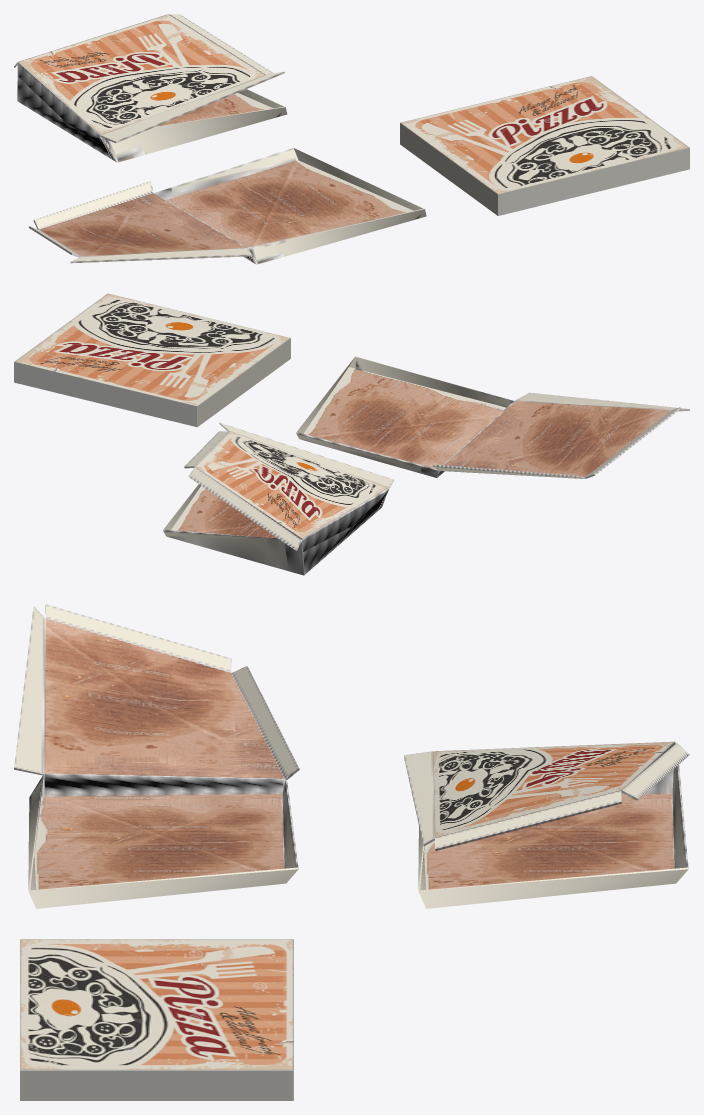
File: pizzaBoxes.fbx
3 views of the same model, one above another, from view 1: azimuth 30°, elevation 25°; view 2: azimuth 150°, elevation 25°; view 3: azimuth 270°, elevation 25° (orthographic). The views are drawn at different scales.
Visible parts, largest first — view 1: pizzaBox01, pizzaBox02, pizzaBox03; view 2: pizzaBox01, pizzaBox03, pizzaBox02; view 3: pizzaBox01, pizzaBox03, pizzaBox02.
Boxes of the visible parts, left/top/right/bottom form: pizzaBox01: left=28, top=148, right=426, bottom=264; pizzaBox02: left=14, top=14, right=287, bottom=162; pizzaBox03: left=400, top=76, right=689, bottom=215; pizzaBox01: left=296, top=356, right=689, bottom=478; pizzaBox03: left=14, top=293, right=290, bottom=427; pizzaBox02: left=163, top=422, right=393, bottom=575; pizzaBox01: left=14, top=604, right=299, bottom=908; pizzaBox03: left=20, top=939, right=293, bottom=1100; pizzaBox02: left=404, top=741, right=689, bottom=908.
Size of the model in its own units: 156 by 17.61 by 106.
Materials: 1 (1 with a texture image).
